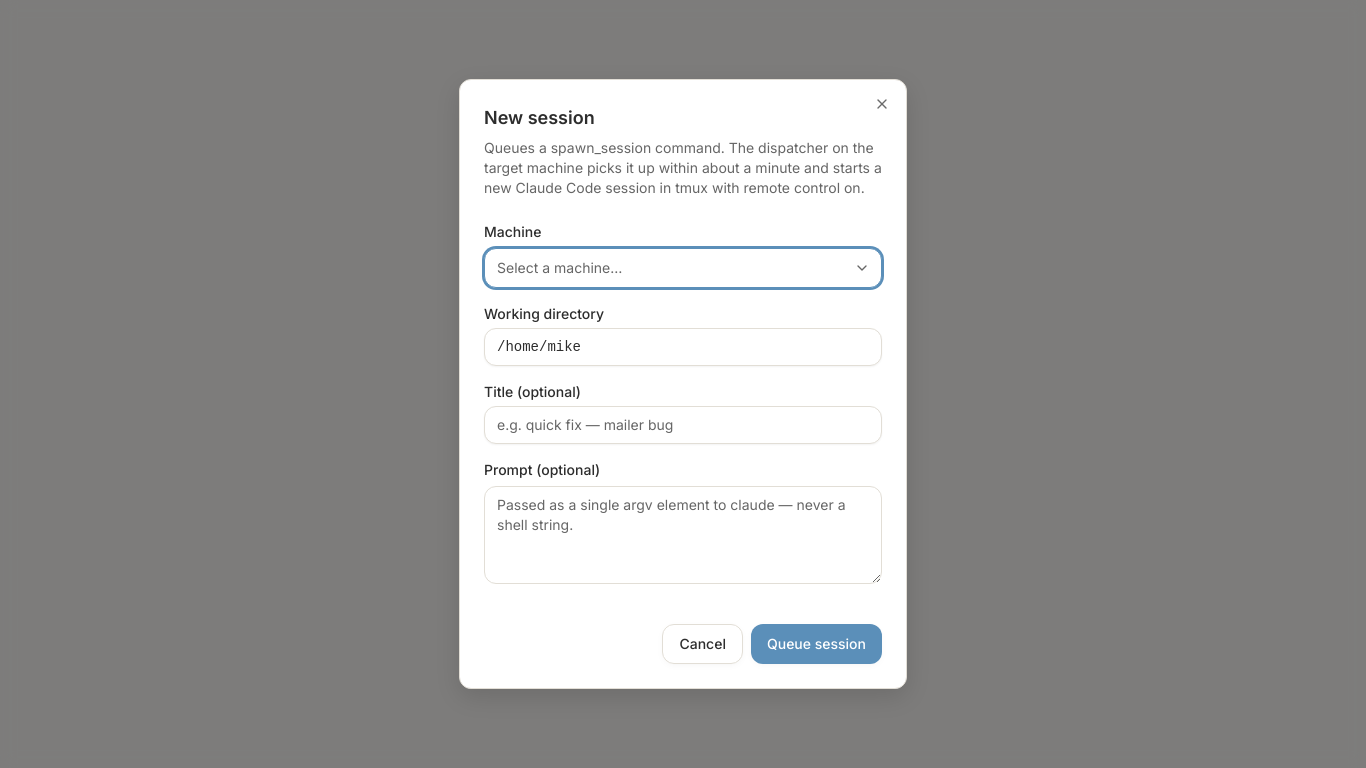
Test: NewSessionModal › does not preselect a machine when there is more than one, and requires a pick
Replace the text in the field labelled "Working directory" with "/home/mike/project": (683, 347) [484,328,882,366]
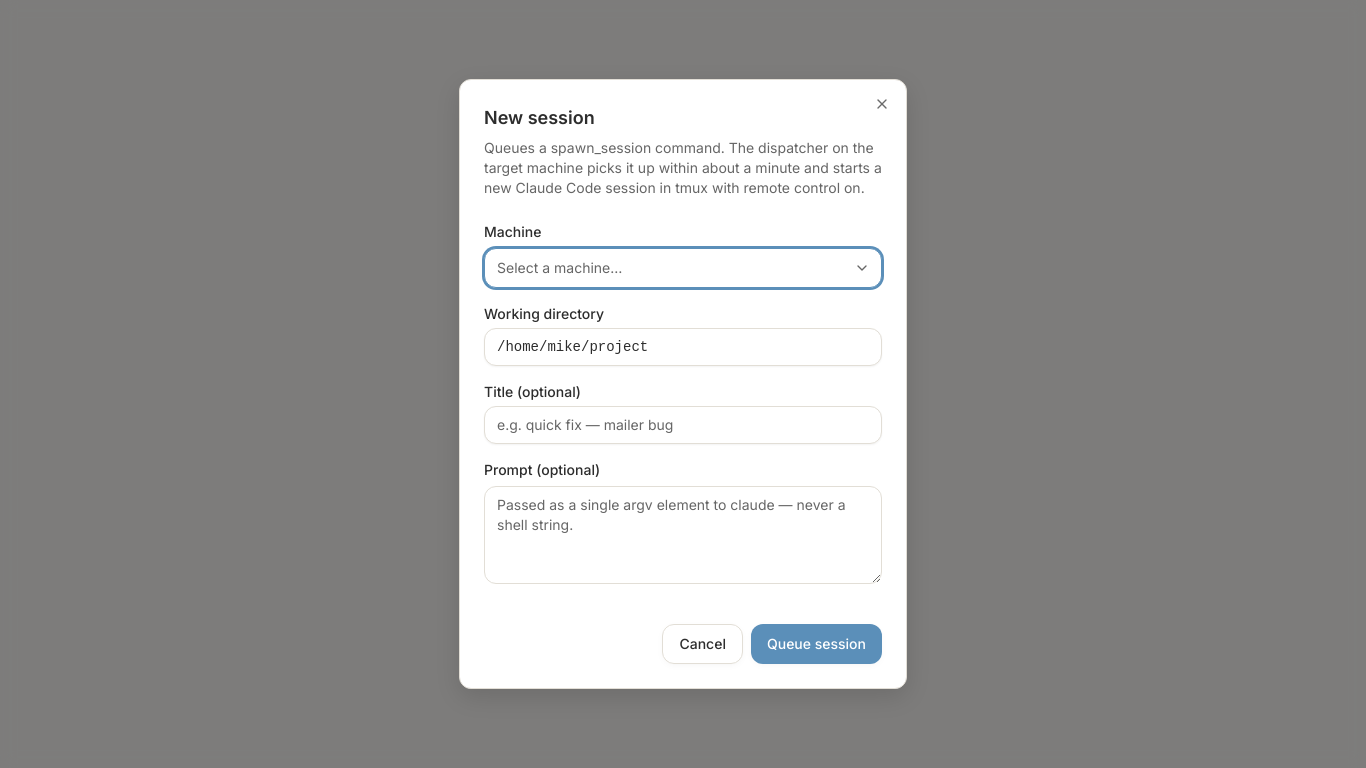
Click the button "Queue session": (816, 644) [751,624,882,664]
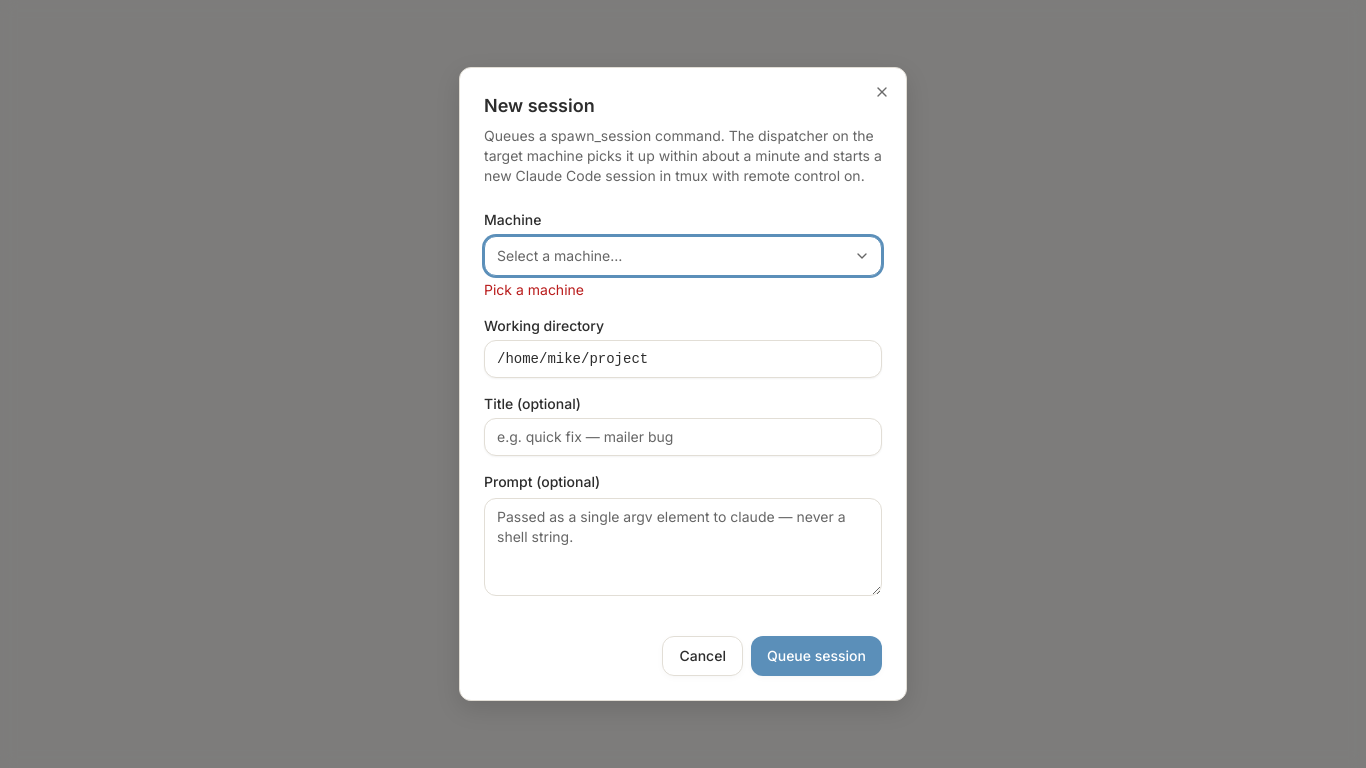
expect the text "Pick a machine" is shown: met, box [484,281,584,298]
